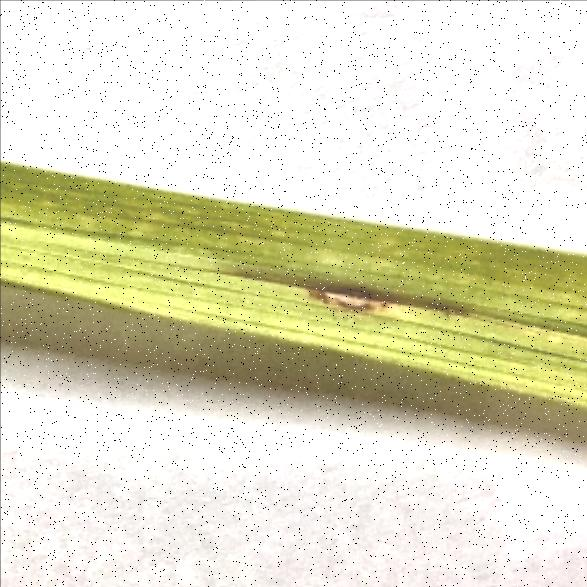Leaf_smut: (268, 262, 401, 324)
